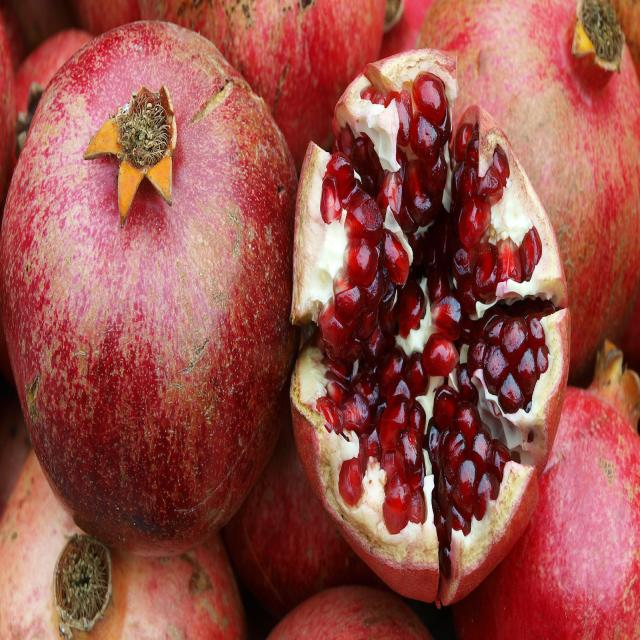Pomegranate: (0, 22, 298, 638), (291, 49, 570, 604), (290, 311, 640, 639), (419, 0, 640, 376), (140, 0, 386, 170), (268, 586, 432, 640)
